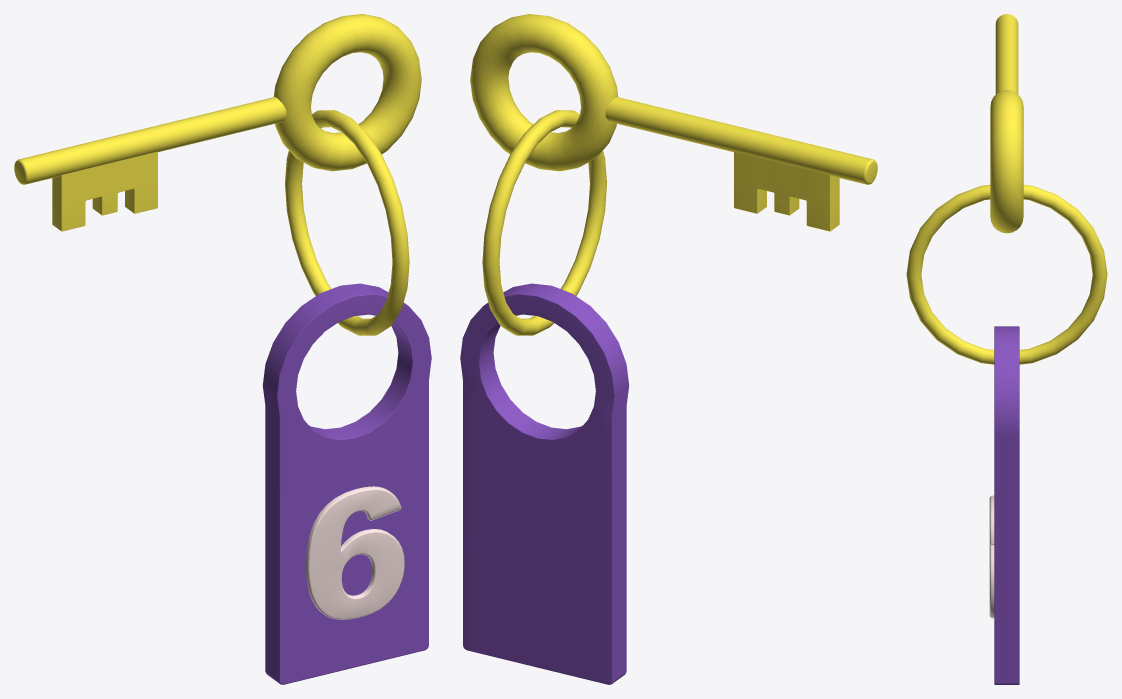
The model's file is Public_7_Key_Number_6.glb.
3 views of the same model, side by side, from view 1: azimuth 30°, elevation 25°; view 2: azimuth 150°, elevation 25°; view 3: azimuth 270°, elevation 25° (orthographic). The views are drawn at different scales.
Visible parts, largest first — view 1: Public_7_Key_Number_6; view 2: Public_7_Key_Number_6; view 3: Public_7_Key_Number_6.
Boxes of the visible parts, box(x1,y1,x2,y2) form: Public_7_Key_Number_6: box(14, 14, 431, 684); Public_7_Key_Number_6: box(460, 14, 877, 684); Public_7_Key_Number_6: box(906, 14, 1107, 684).
Size of the model in its own units: 1.61 by 2.45 by 0.8011.
1 material, 1 textured.
